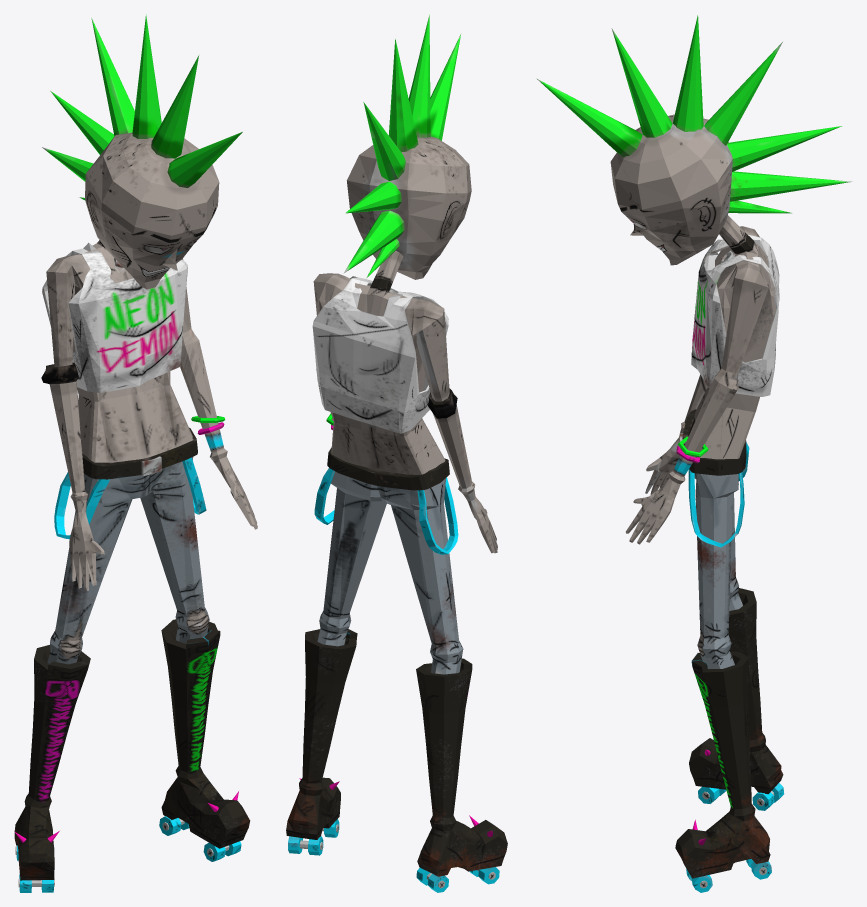
File: punkAnimation_000004.obj
3 views of the same model, side by side, from view 1: azimuth 30°, elevation 25°; view 2: azimuth 150°, elevation 25°; view 3: azimuth 270°, elevation 25° (orthographic). The views are drawn at different scales.
Parts seen in each view (by area): view 1: Cube.004_Cube.003; view 2: Cube.004_Cube.003; view 3: Cube.004_Cube.003.
Part boxes in pixels (x1,y1,x2,y2): Cube.004_Cube.003: (14,14,257,892); Cube.004_Cube.003: (286,14,507,892); Cube.004_Cube.003: (536,15,851,892).
Size of the model in its own units: 2 by 7.49 by 2.57.
